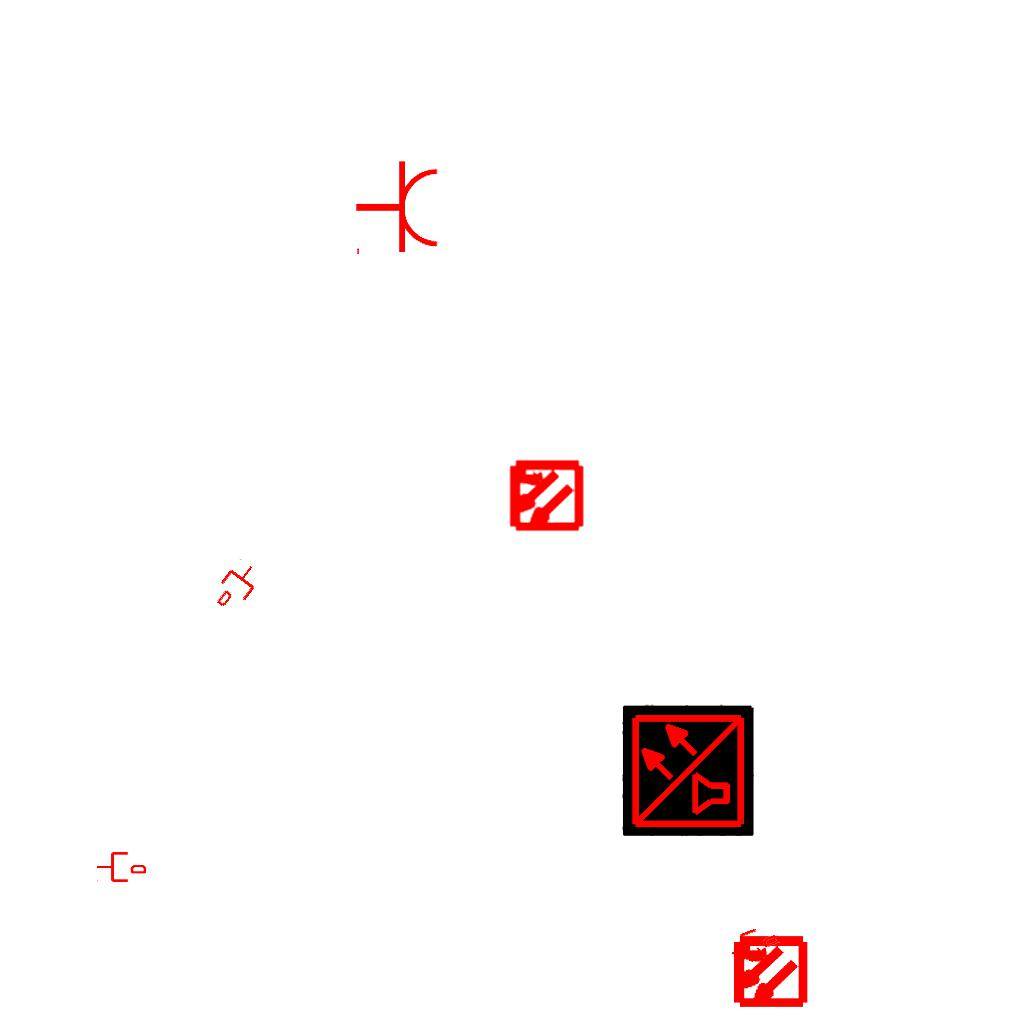Datenanschluss_einfach: (208, 555, 266, 617), (724, 920, 784, 970), (95, 849, 147, 885)
OKW_Multisensormelder_(Kombination_optischer_Rauch-Kahlenmonoxid_Waerme-Melder): (622, 704, 754, 836)
OT_Multisensormelder_(Kombination_RMO_WMD): (488, 439, 601, 552), (712, 915, 825, 1024)
Schukosteckdose_einfach: (354, 159, 441, 259)
